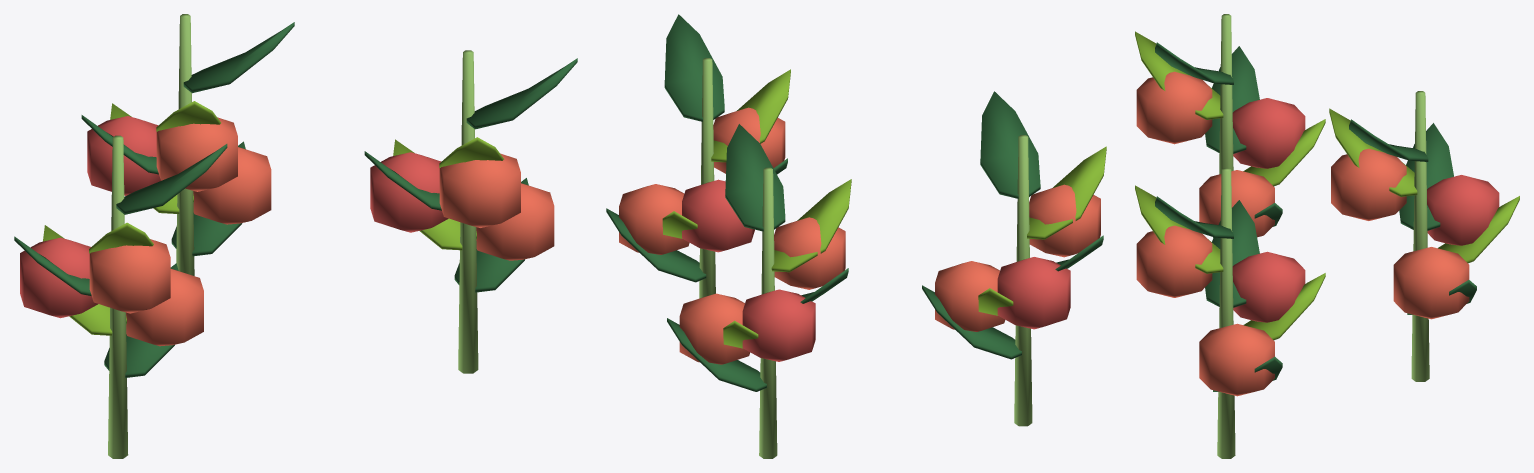
The model's file is stage_3_harvest.glb.
The picture shows the model from 3 angles, left to right: view 1: azimuth 30°, elevation 25°; view 2: azimuth 150°, elevation 25°; view 3: azimuth 270°, elevation 25°; orthographic projection. The views are drawn at different scales.
Visible parts, largest first — view 1: 果实.002, 果实.005, 果实.004, 果实.001, 果实.008, 主茎.004, 主茎.003, 果实.006, 果实.003, 果实, 果实.007, 主茎.005 (+14 smaller); view 2: 果实.007, 果实.001, 复叶.035, 复叶.030, 复叶.025, 果实.002, 果实.008, 果实.004, 果实.006, 果实, 果实.003, 主茎.003 (+12 smaller); view 3: 果实.006, 果实.003, 果实.002, 果实.005, 果实.008, 果实.004, 果实.001, 果实.007, 主茎.005, 主茎.004, 果实, 复叶.033 (+12 smaller).
Part boxes in pixels (x1=…): 果实.002: x1=89, y1=239, x2=170, y2=313; 果实.005: x1=439, y1=153, x2=520, y2=227; 果实.004: x1=370, y1=152, x2=448, y2=232; 果实.001: x1=20, y1=237, x2=97, y2=318; 果实.008: x1=156, y1=117, x2=237, y2=191; 主茎.004: x1=458, y1=50, x2=478, y2=373; 主茎.003: x1=108, y1=135, x2=128, y2=458; 果实.006: x1=193, y1=147, x2=271, y2=224; 果实.003: x1=476, y1=183, x2=554, y2=260; 果实: x1=126, y1=269, x2=203, y2=346; 果实.007: x1=87, y1=116, x2=160, y2=195; 主茎.005: x1=176, y1=14, x2=194, y2=275; 果实.007: x1=742, y1=289, x2=815, y2=361; 果实.001: x1=997, y1=257, x2=1070, y2=329; 复叶.035: x1=725, y1=124, x2=785, y2=231; 复叶.030: x1=664, y1=14, x2=724, y2=121; 复叶.025: x1=980, y1=91, x2=1040, y2=198; 果实.002: x1=1029, y1=184, x2=1100, y2=257; 果实.008: x1=774, y1=217, x2=845, y2=289; 果实.004: x1=682, y1=179, x2=754, y2=252; 果实.006: x1=679, y1=293, x2=750, y2=364; 果实: x1=935, y1=261, x2=1005, y2=331; 果实.003: x1=619, y1=184, x2=689, y2=254; 主茎.003: x1=1014, y1=135, x2=1032, y2=426; 果实.006: x1=1393, y1=247, x2=1469, y2=319; 果实.003: x1=1199, y1=323, x2=1274, y2=396; 果实.002: x1=1136, y1=71, x2=1212, y2=144; 果实.005: x1=1136, y1=225, x2=1212, y2=297; 果实.008: x1=1331, y1=148, x2=1406, y2=220; 果实.004: x1=1232, y1=251, x2=1305, y2=322; 果实.001: x1=1232, y1=98, x2=1305, y2=168; 果实.007: x1=1427, y1=175, x2=1499, y2=245; 主茎.005: x1=1411, y1=91, x2=1429, y2=381; 主茎.004: x1=1217, y1=168, x2=1235, y2=458; 果实: x1=1199, y1=170, x2=1274, y2=237; 复叶.033: x1=1399, y1=123, x2=1453, y2=230.
Size of the model in its own units: 0.9158 by 0.5284 by 0.6343.
2 materials, 2 textured.
